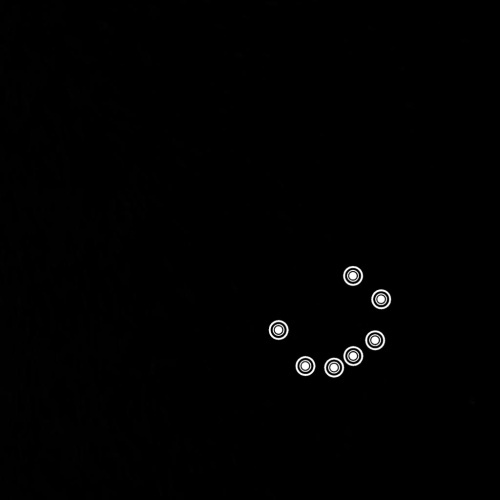corona_borealis: (265, 260, 399, 382)
